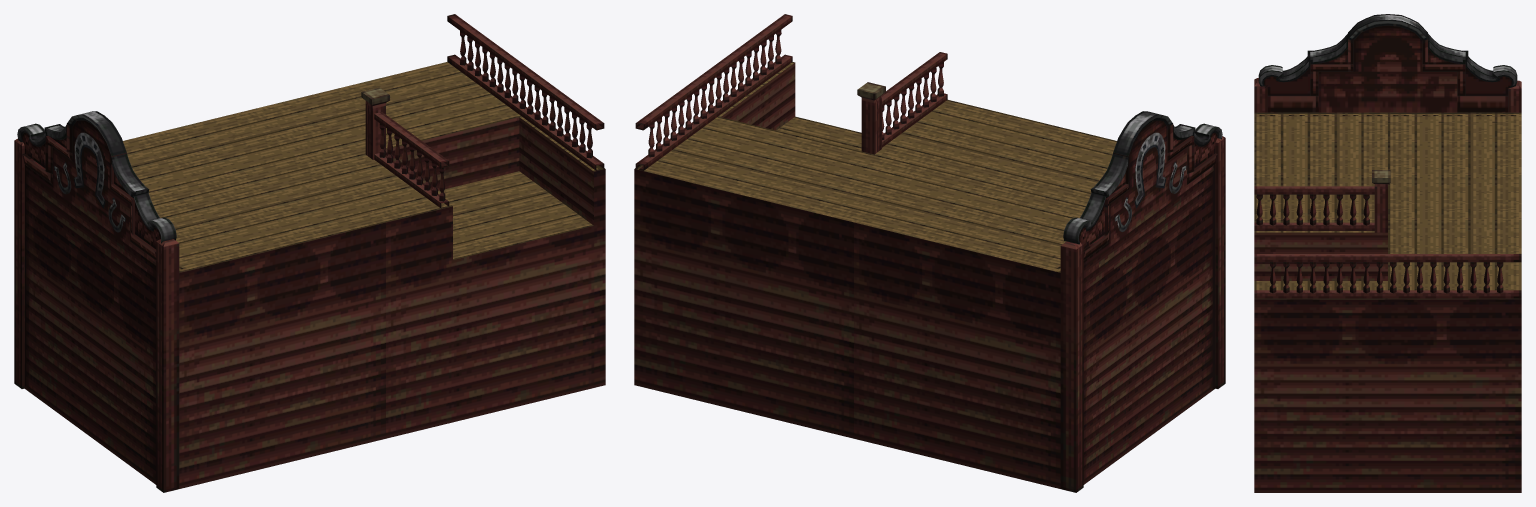
The model's file is EnvBdgMD_Wilderness_A_Outdoor_Shop_A.FBX.
3 renders of one model, left to right at view 1: azimuth 30°, elevation 25°; view 2: azimuth 150°, elevation 25°; view 3: azimuth 270°, elevation 25°, orthographic. The views are drawn at different scales.
Visible parts, largest first — view 1: EnvBdgMD_Wilderness_A_Outdoor_Shop_A; view 2: EnvBdgMD_Wilderness_A_Outdoor_Shop_A; view 3: EnvBdgMD_Wilderness_A_Outdoor_Shop_A.
Boxes of the visible parts, x1,y1,x2,y2 form: EnvBdgMD_Wilderness_A_Outdoor_Shop_A: (14,14,605,492); EnvBdgMD_Wilderness_A_Outdoor_Shop_A: (634,14,1225,492); EnvBdgMD_Wilderness_A_Outdoor_Shop_A: (1254,14,1521,492).
Bounding box in the file's own units: 855 × 590 × 500.
Materials: 1 (1 with a texture image).
